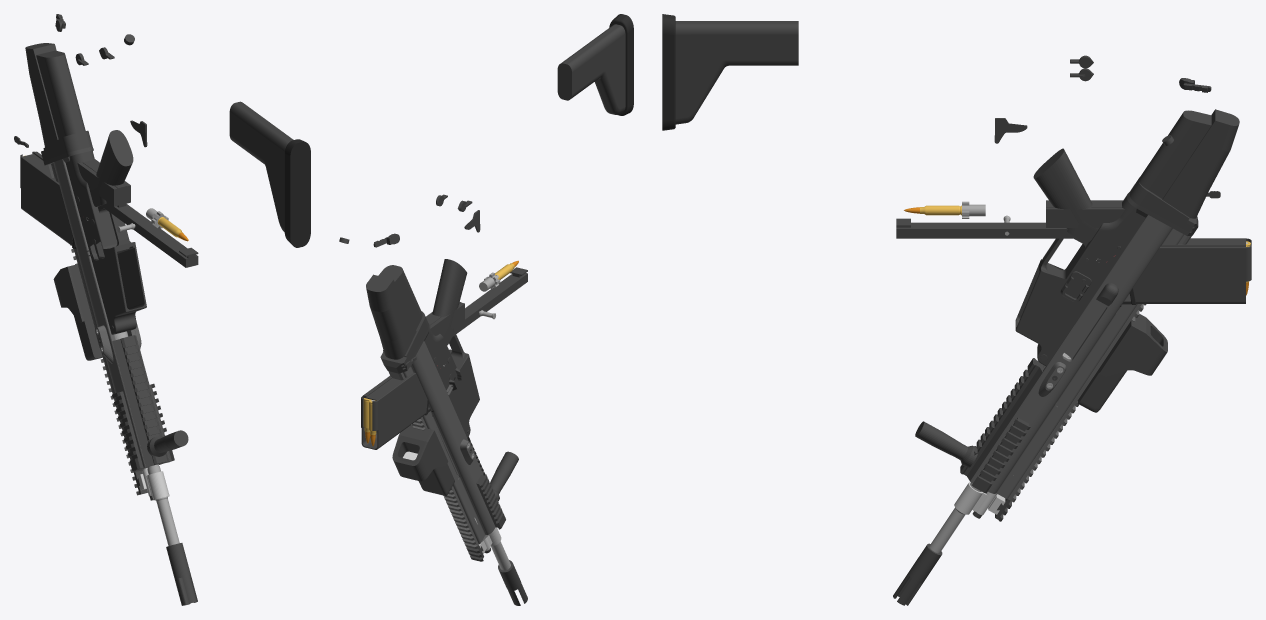
The model's file is Scar_H.fbx.
3 renders of one model, left to right at view 1: azimuth 30°, elevation 25°; view 2: azimuth 150°, elevation 25°; view 3: azimuth 270°, elevation 25°, orthographic. The views are drawn at different scales.
Parts seen in each view (by area): view 1: Scar 17, Stock, Bolt Carrier, Magazine, Holographic Sight, Vertical Grip, Bolt; view 2: Scar 17, Stock, Magazine, Holographic Sight, Bolt Carrier, Vertical Grip, Bolt; view 3: Scar 17, Stock, Magazine, Bolt Carrier, Holographic Sight, Vertical Grip, Bolt.
Part boxes in pixels (box(x1,y1,x2,y2)): Scar 17: box(25, 43, 197, 605); Stock: box(229, 101, 310, 247); Bolt Carrier: box(77, 158, 198, 267); Magazine: box(20, 151, 76, 249); Holographic Sight: box(53, 264, 102, 360); Vertical Grip: box(147, 430, 188, 456); Bolt: box(146, 208, 188, 241); Scar 17: box(366, 259, 527, 605); Stock: box(557, 14, 633, 115); Magazine: box(361, 372, 434, 449); Holographic Sight: box(392, 424, 454, 495); Bolt Carrier: box(426, 267, 527, 336); Vertical Grip: box(490, 451, 518, 501); Bolt: box(479, 260, 518, 291); Scar 17: box(893, 109, 1239, 605); Stock: box(662, 14, 798, 130); Magazine: box(1120, 238, 1251, 306); Bolt Carrier: box(896, 200, 1124, 238); Holographic Sight: box(1077, 314, 1167, 412); Vertical Grip: box(915, 421, 977, 467); Bolt: box(904, 201, 985, 218).
Bounding box in the file's own units: 14.49 × 71.89 × 79.25.
